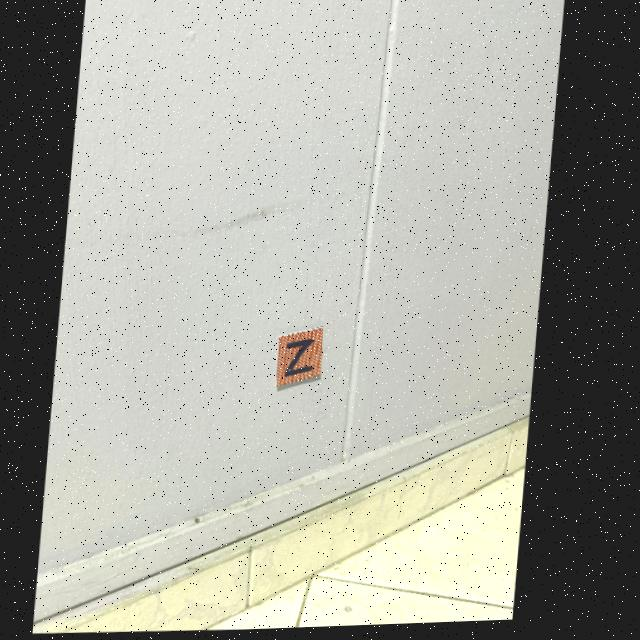Z: (290, 341, 318, 379)
